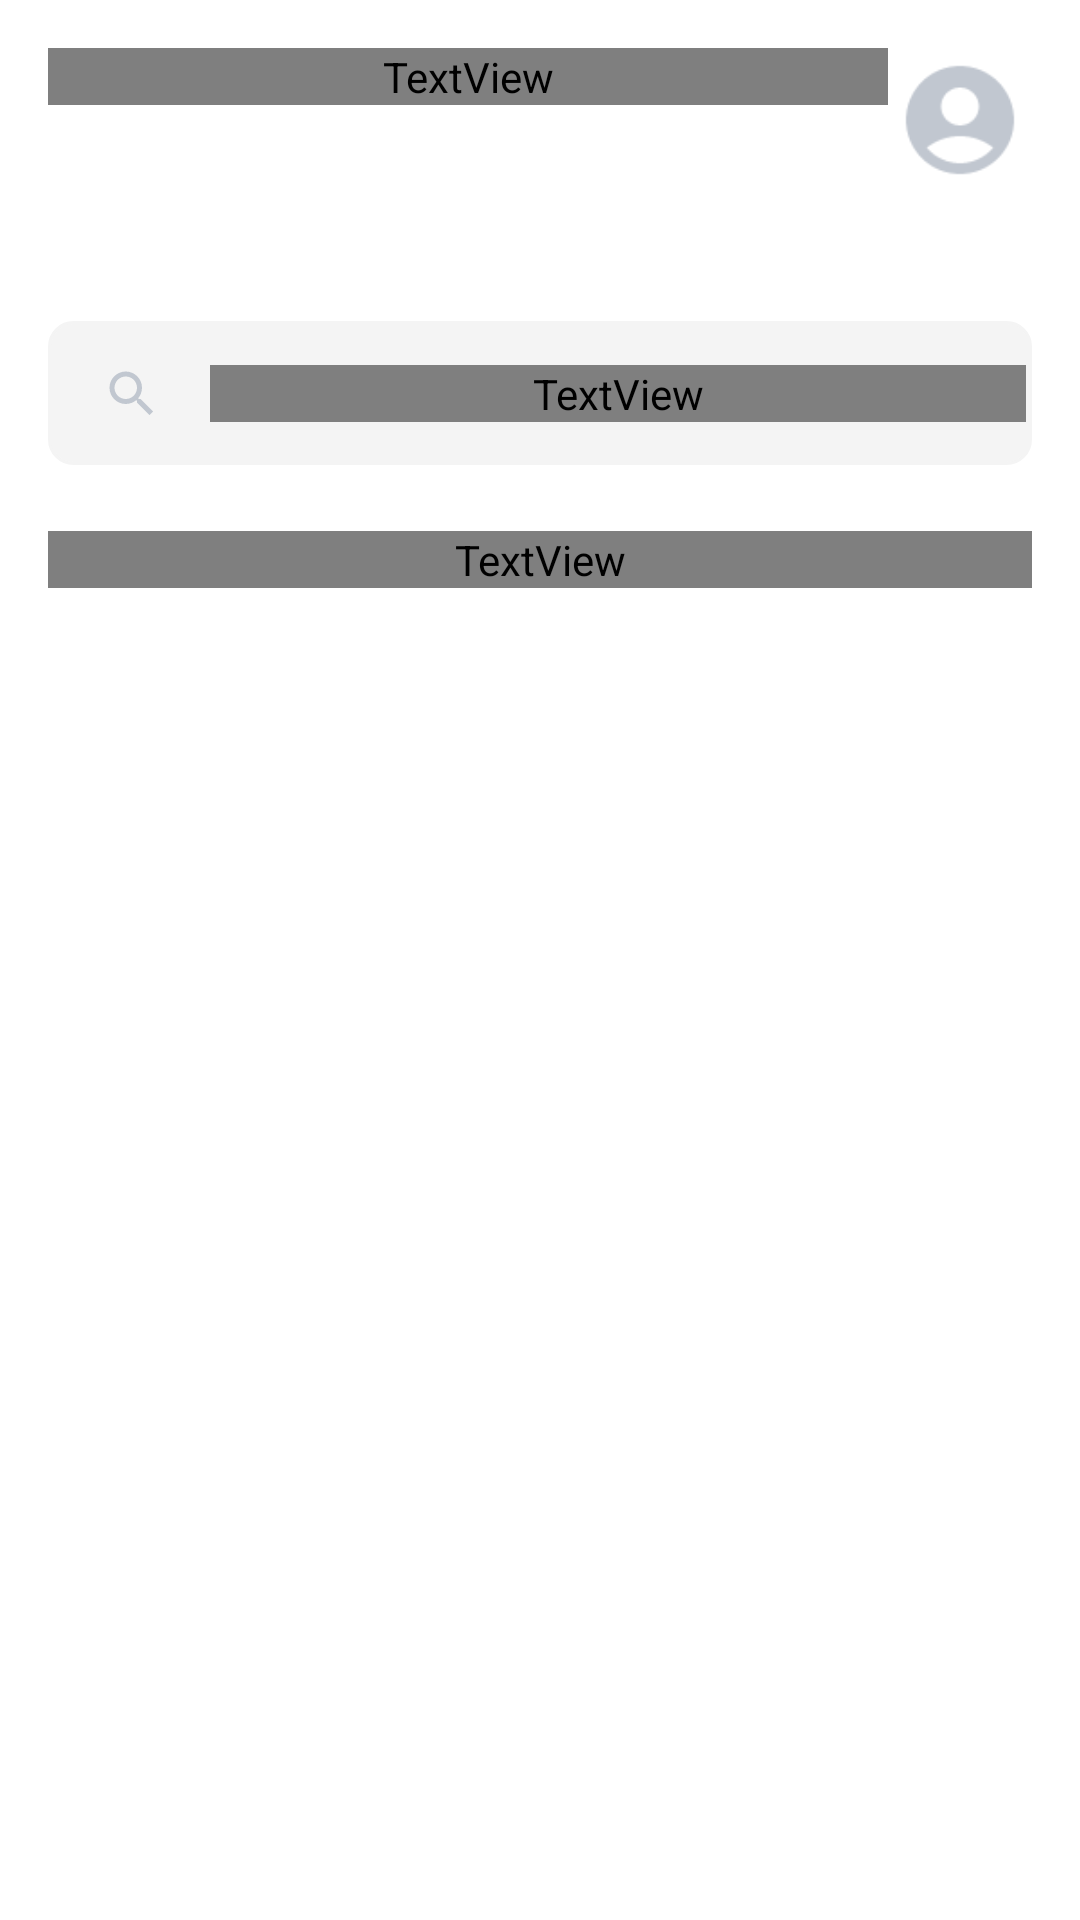

Screen size 1080w x 1920h. Icon name, then its box in pixels as (x1, y1, x2, y2):
search: (109, 371, 153, 415)
